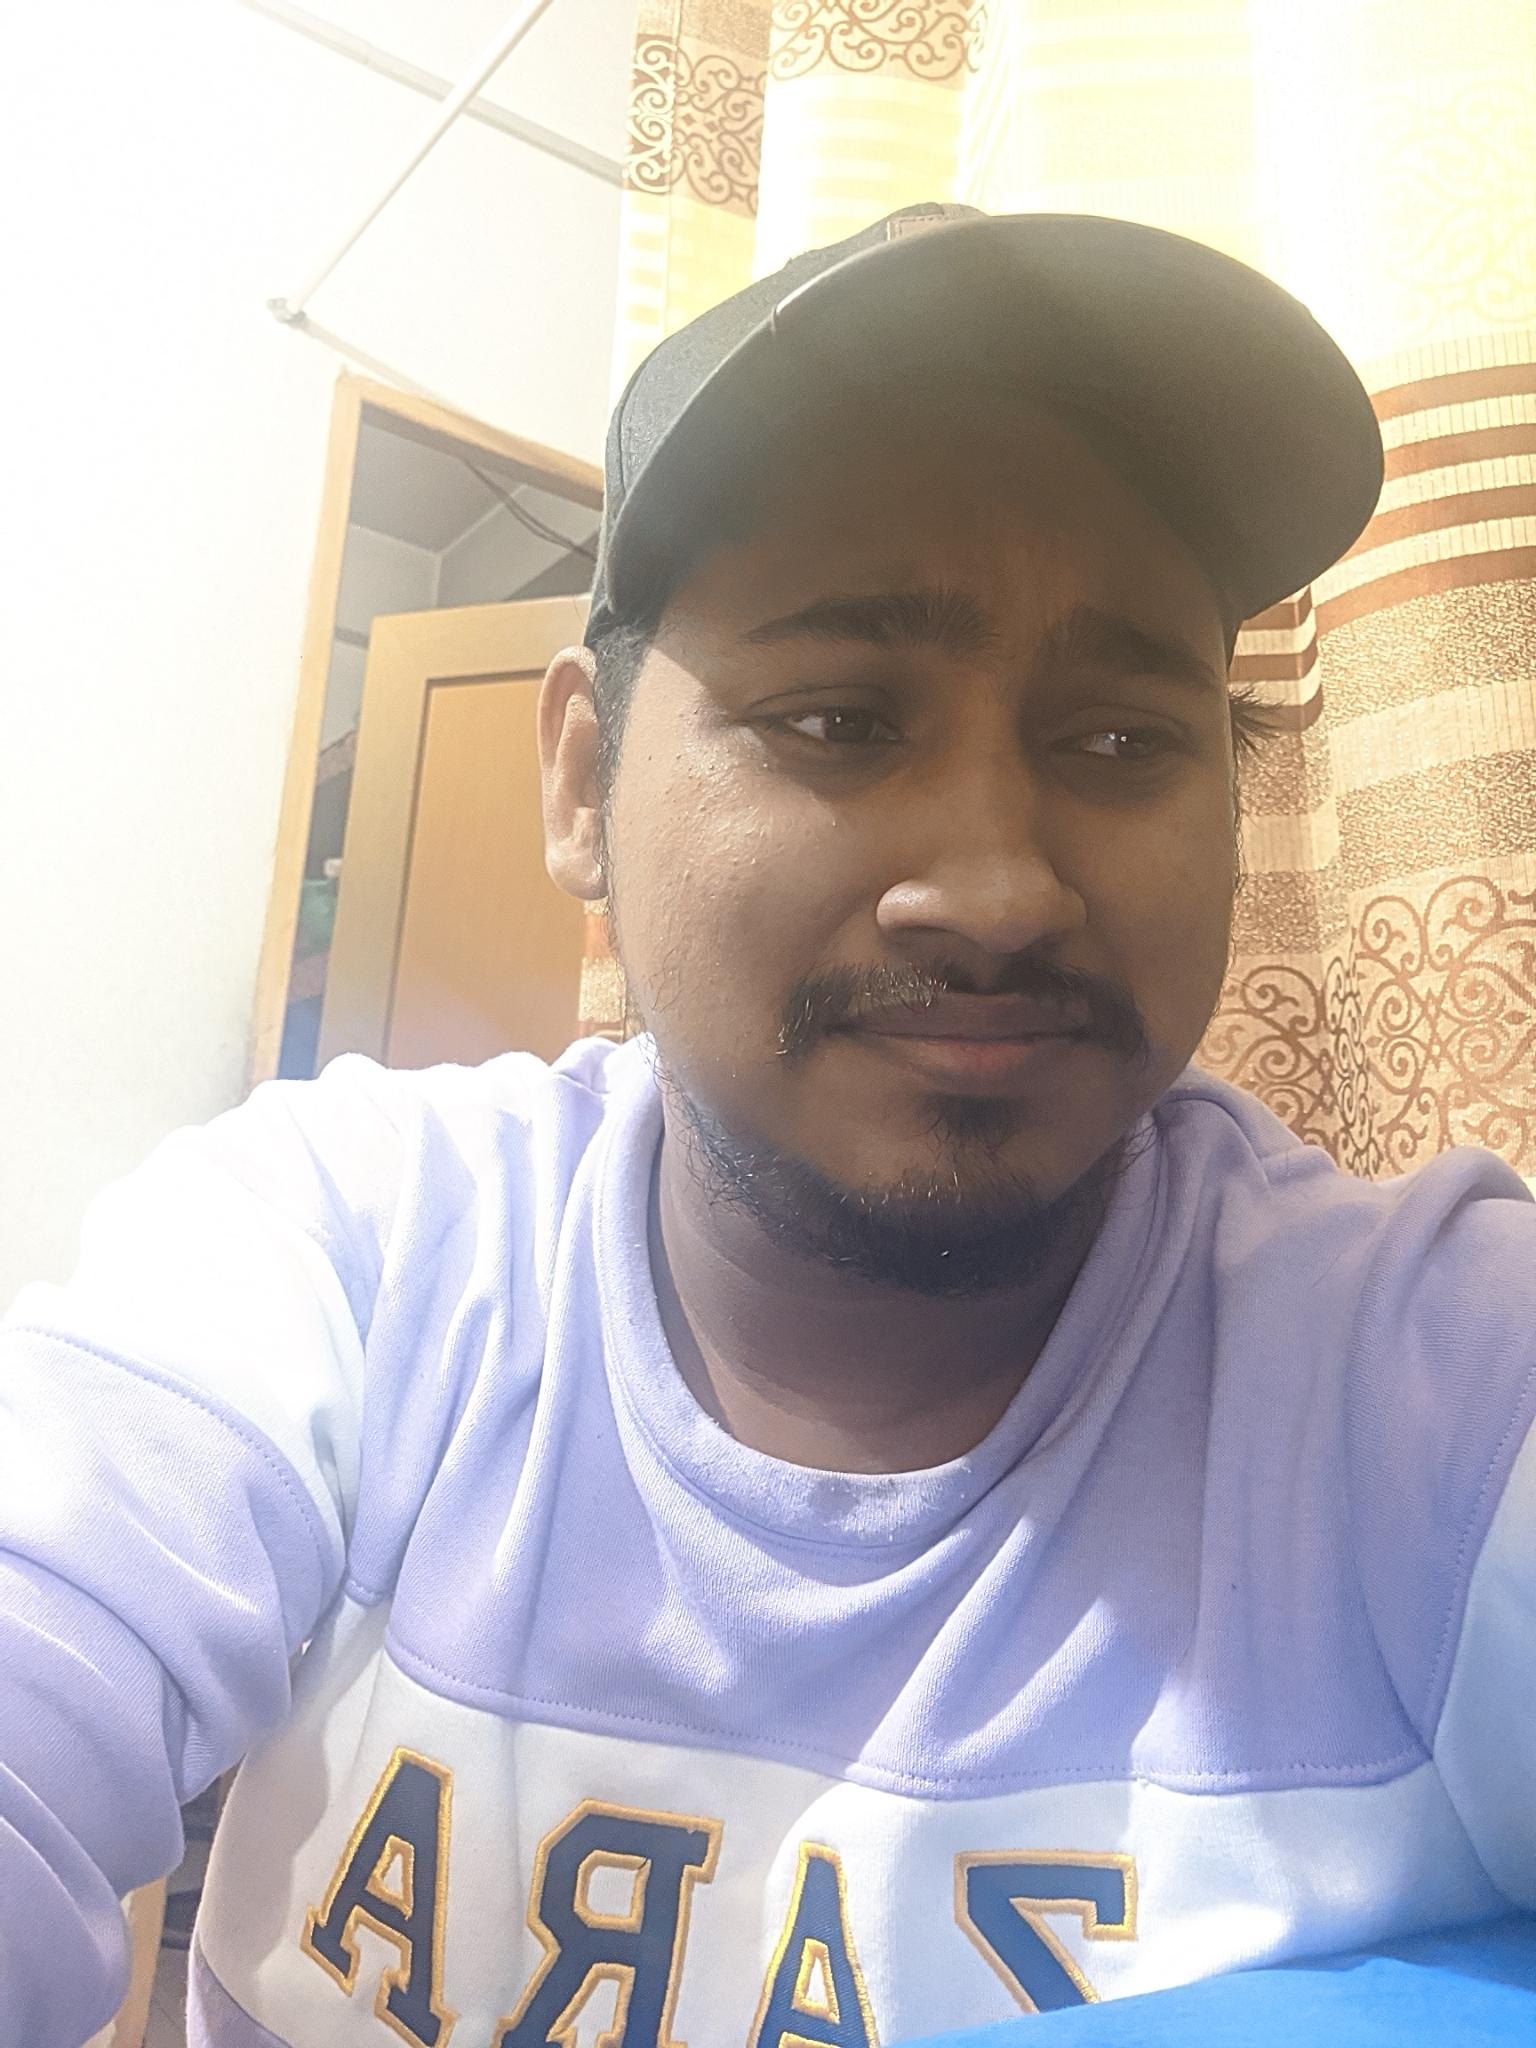Sad: (697, 511, 1262, 1269)
